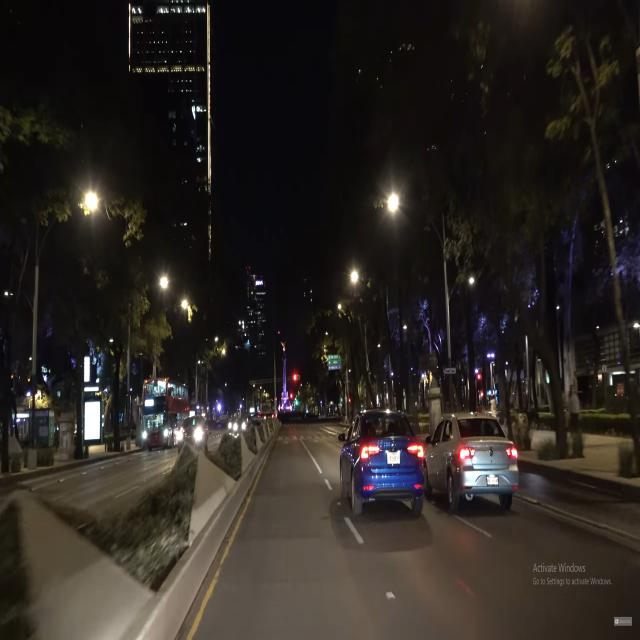headlights: (173, 424, 205, 449), (137, 423, 171, 446), (232, 417, 248, 437)
